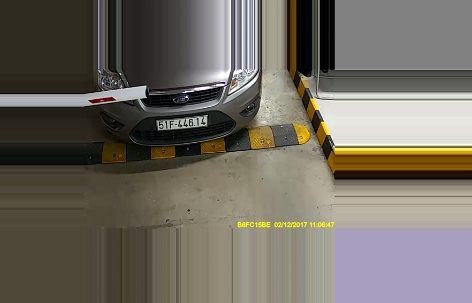plate: (155, 113, 213, 133)
